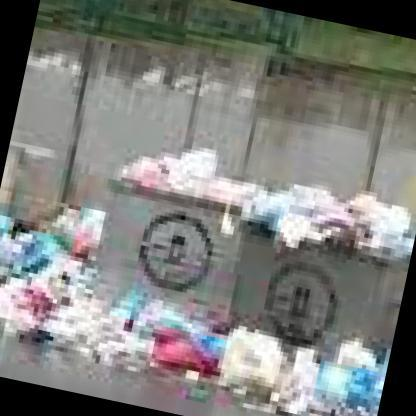Garbage: (0, 190, 102, 354), (197, 328, 384, 415), (50, 292, 221, 387), (243, 171, 413, 258), (111, 138, 251, 211)
